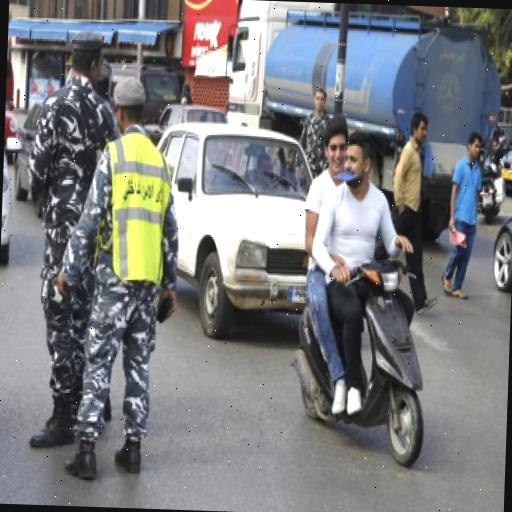no helmet: (320, 118, 441, 452)
